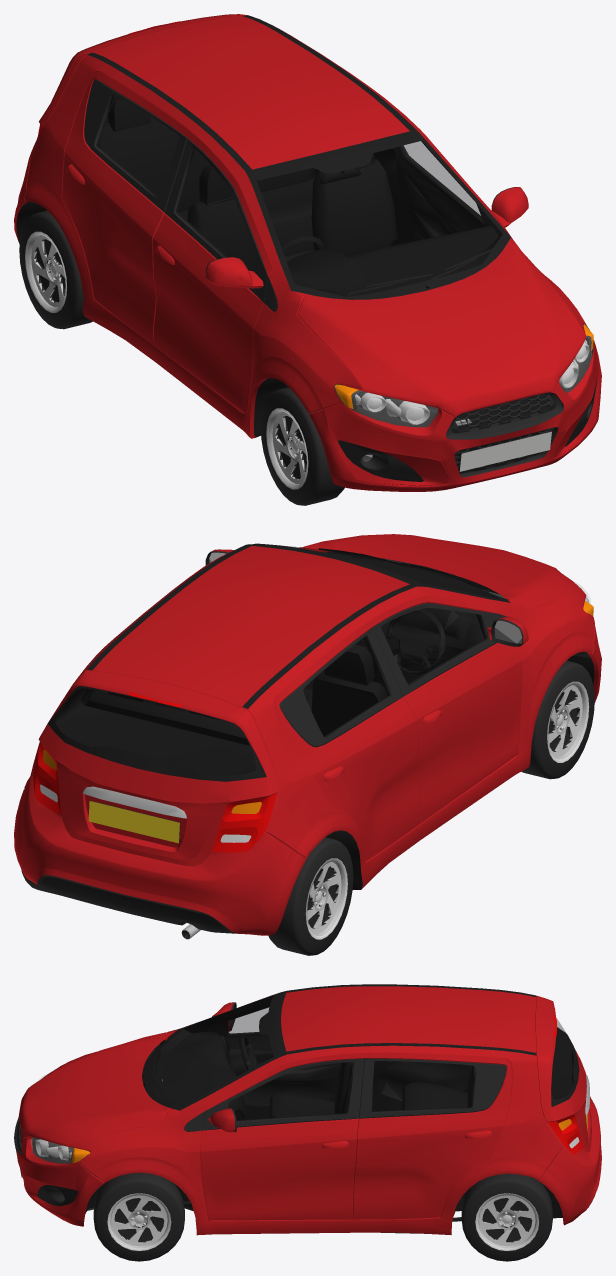
Rendered from hatch.glb.
The picture shows the model from 3 angles, top to bottom: view 1: azimuth 30°, elevation 25°; view 2: azimuth 150°, elevation 25°; view 3: azimuth 270°, elevation 25°; orthographic projection. The views are drawn at different scales.
Visible parts, largest first — view 1: Body (×3), Door_Front, Interior_Static#static, Body_Glass, Door_Left_0 (×3), Door_Left_1 (×3), Wheel_0_1 (×3), Wheel_1_1 (×3), Door_Right_0#static, Body#static (×2), Lamp_Housings, License_Plate_0#static (×2) (+5 smaller); view 2: Body (×3), Door_Rear_0 (×4), Door_Left_0 (×3), Interior_Static#static, Door_Left_1 (×3), Door_Front, Wheel_1_1 (×3), Wheel_0_1 (×3), License_Plate_1#static (×2), Steering_Wheel#static (×2), Light_Brake_Left, Body_Glass (+1 smaller); view 3: Body (×3), Door_Right_0 (×3), Interior_Static#static, Door_Front, Door_Right_1 (×3), Body_Glass, Wheel_0_0 (×3), Wheel_1_0 (×3), Door_Rear_0 (×3), Door_Left_0#static, Door_Left_1#static, Body#static (×3) (+4 smaller).
Part boxes in pixels (<box>): Body (×3): <box>14,15,601,491</box>; Door_Front: <box>297,245,586,416</box>; Interior_Static#static: <box>98,96,502,296</box>; Body_Glass: <box>257,141,501,296</box>; Door_Left_0 (×3): <box>153,139,277,414</box>; Door_Left_1 (×3): <box>61,78,197,345</box>; Wheel_0_1 (×3): <box>260,387,344,505</box>; Wheel_1_1 (×3): <box>19,210,92,329</box>; Door_Right_0#static: <box>399,146,491,252</box>; Body#static (×2): <box>334,324,593,474</box>; Lamp_Housings: <box>352,336,591,426</box>; License_Plate_0#static (×2): <box>459,431,551,471</box>; Body (×3): <box>14,543,601,939</box>; Door_Rear_0 (×4): <box>38,670,279,866</box>; Door_Left_0 (×3): <box>374,602,521,823</box>; Interior_Static#static: <box>55,557,501,775</box>; Door_Left_1 (×3): <box>279,620,421,862</box>; Door_Front: <box>303,534,585,609</box>; Wheel_1_1 (×3): <box>268,837,353,955</box>; Wheel_0_1 (×3): <box>522,660,594,779</box>; License_Plate_1#static (×2): <box>88,801,179,843</box>; Steering_Wheel#static (×2): <box>385,608,445,675</box>; Light_Brake_Left: <box>212,793,276,852</box>; Body_Glass: <box>288,546,498,598</box>; Body (×3): <box>14,984,601,1235</box>; Door_Right_0 (×3): <box>184,1058,363,1221</box>; Interior_Static#static: <box>153,995,573,1120</box>; Door_Front: <box>18,1032,171,1146</box>; Door_Right_1 (×3): <box>347,1058,507,1220</box>; Body_Glass: <box>154,995,273,1105</box>; Wheel_0_0 (×3): <box>93,1172,184,1261</box>; Wheel_1_0 (×3): <box>461,1173,552,1261</box>; Door_Rear_0 (×3): <box>535,996,591,1152</box>; Door_Left_0#static: <box>226,1021,341,1119</box>; Door_Left_1#static: <box>372,1061,472,1111</box>; Body#static (×3): <box>19,1040,573,1221</box>.
Size of the model in its own units: 1.83 by 1.45 by 3.84.
